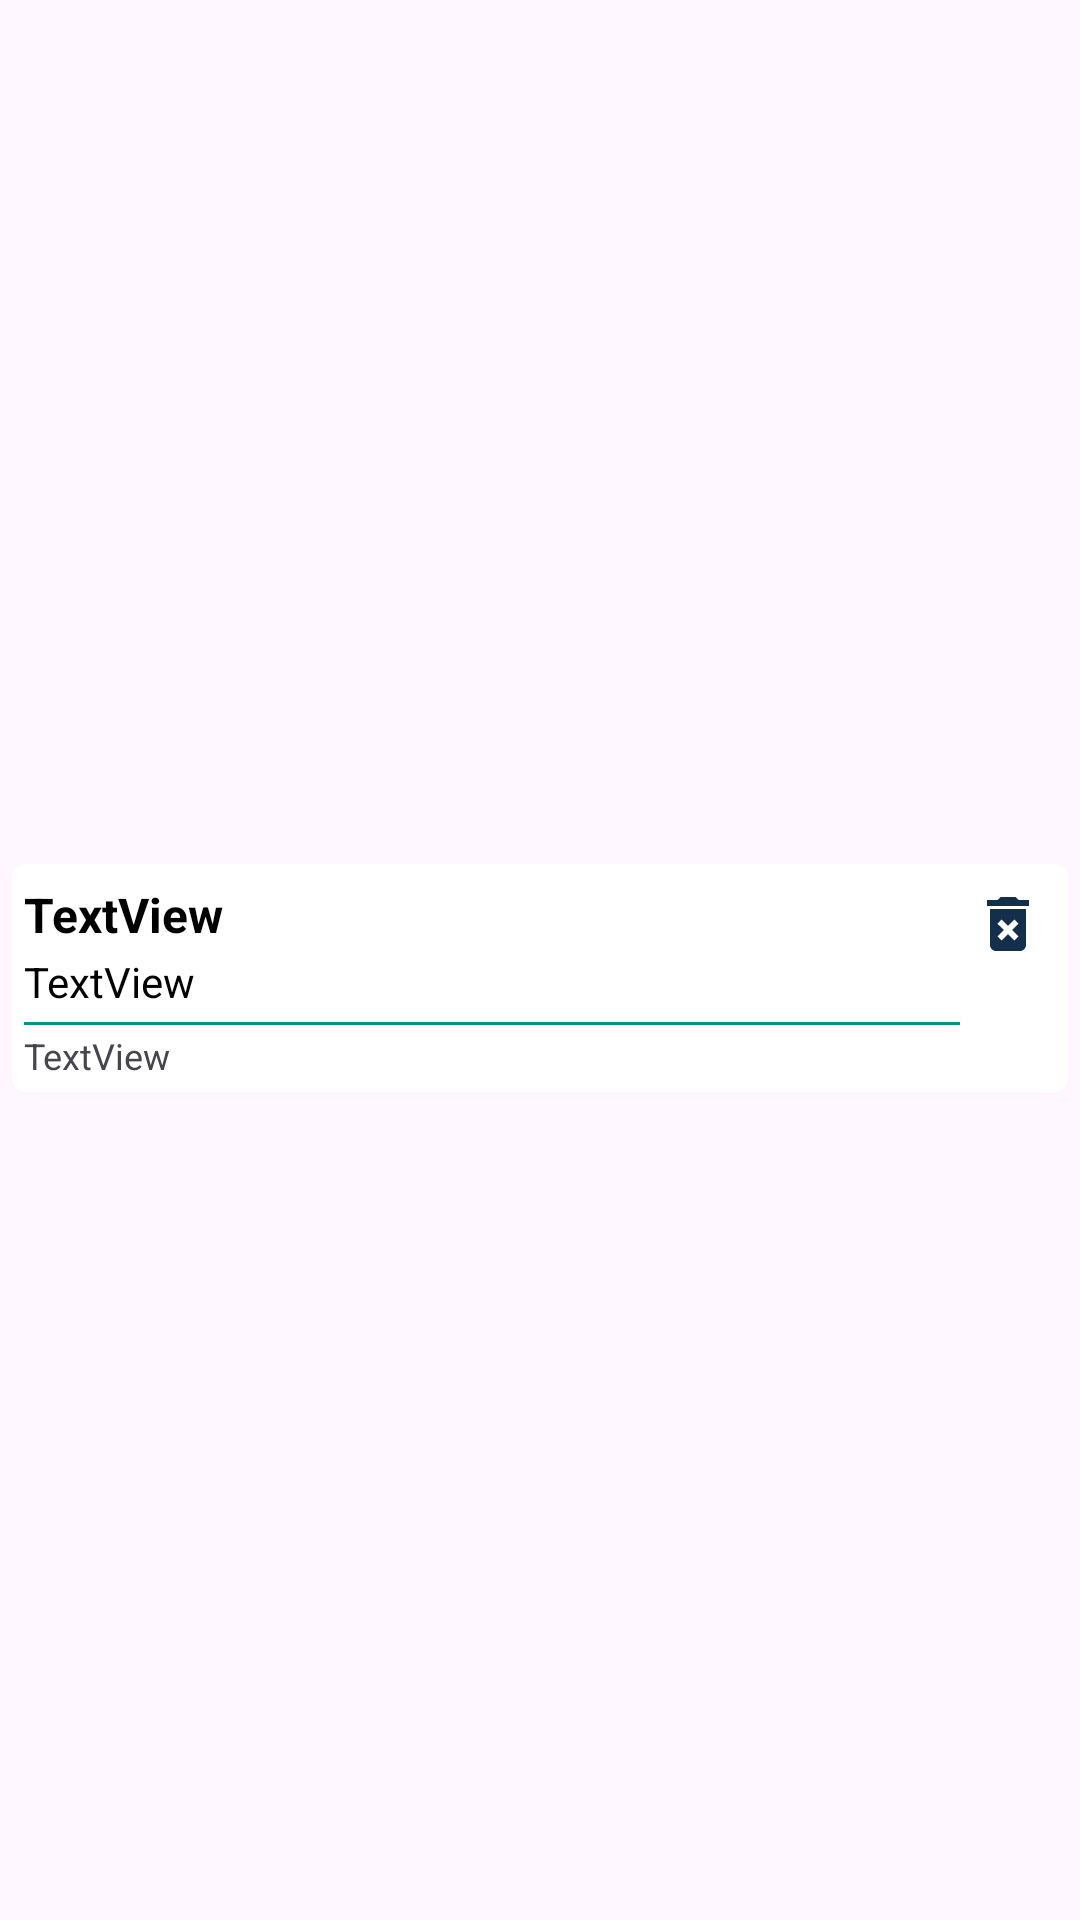

Named icons in this screenshot (1080x1920) and their bounding boxes, bbox=(x1, y1, x2, y2):
delete: bbox=(987, 897, 1029, 951)
